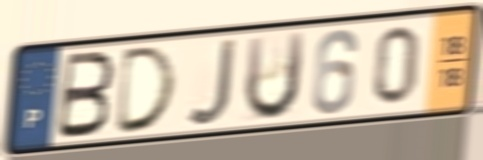0: (368, 23, 425, 110)
6: (308, 26, 360, 117)
B: (52, 49, 118, 142)
D: (111, 42, 180, 138)
J: (184, 35, 240, 129)
U: (241, 28, 308, 125)
